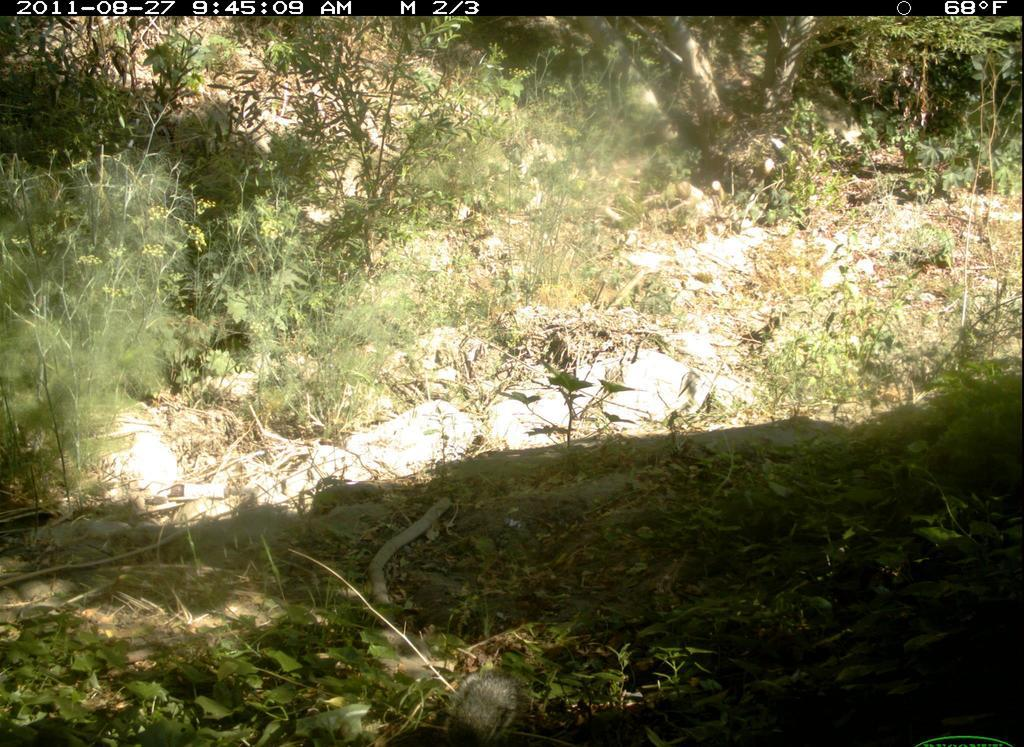squirrel: (384, 667, 526, 747)
